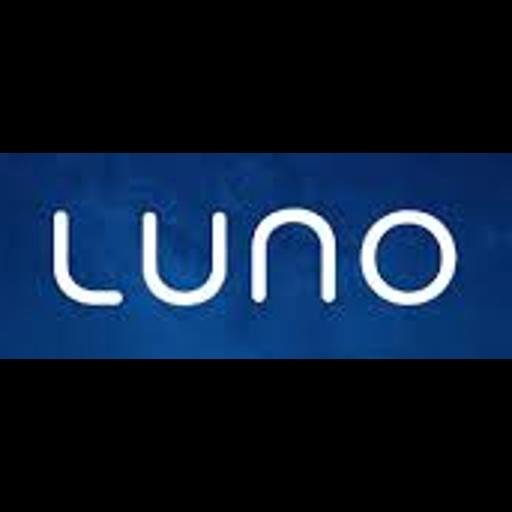Luno: (0, 153, 512, 359)
